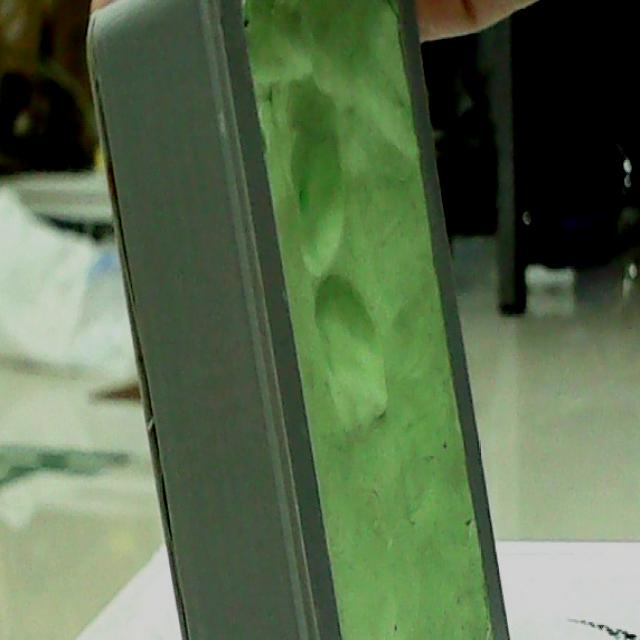block: (95, 0, 519, 640)
